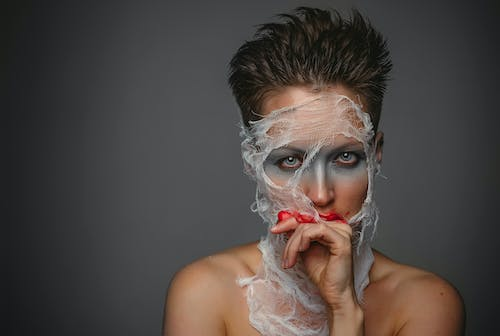blood: (276, 208, 353, 225)
